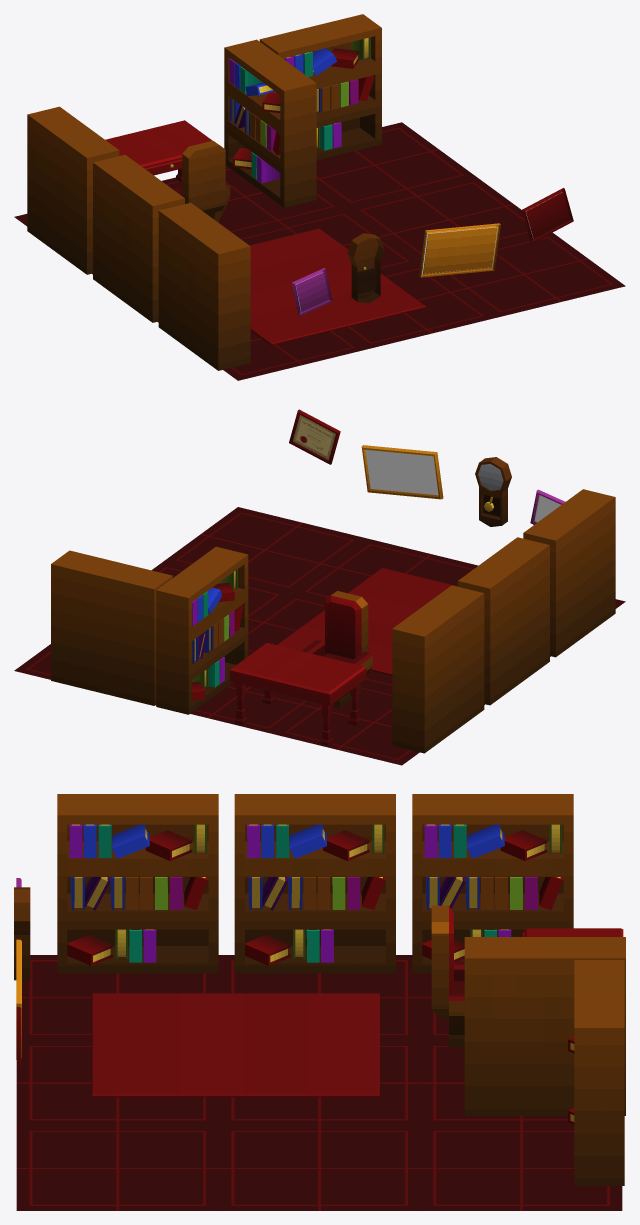
The model's file is s1_Library_v2.fbx.
3 renders of one model, top to bottom at view 1: azimuth 30°, elevation 25°; view 2: azimuth 150°, elevation 25°; view 3: azimuth 270°, elevation 25°, orthographic. The views are drawn at different scales.
Visible parts, largest first — view 1: s1_Library_v2; view 2: s1_Library_v2; view 3: s1_Library_v2.
Boxes of the visible parts, <box> form: s1_Library_v2: <box>14,14,625,380</box>; s1_Library_v2: <box>14,409,625,765</box>; s1_Library_v2: <box>14,794,625,1210</box>.
Size of the model in its own units: 911 by 259 by 909.
